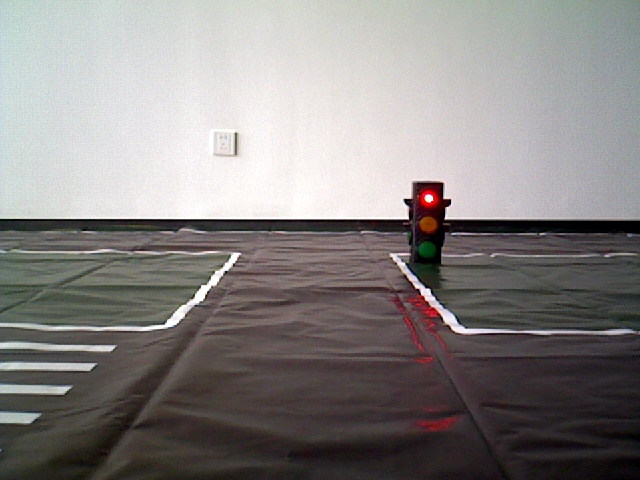red: (414, 184, 442, 263)
